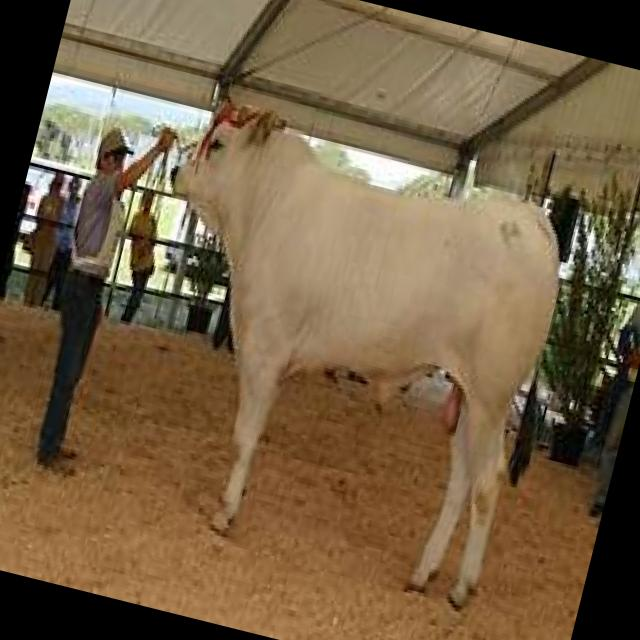animal: (84, 83, 600, 618)
